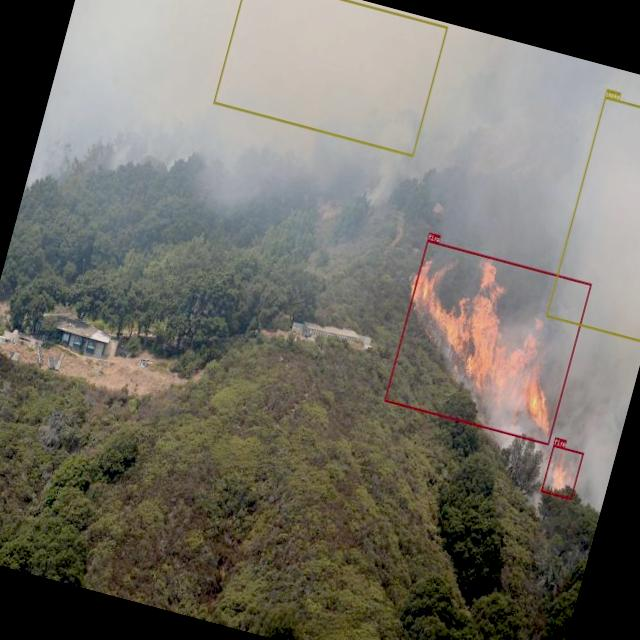fire: (383, 239, 591, 445), (540, 444, 583, 499)
smoke: (212, 0, 447, 156), (545, 96, 640, 342)
